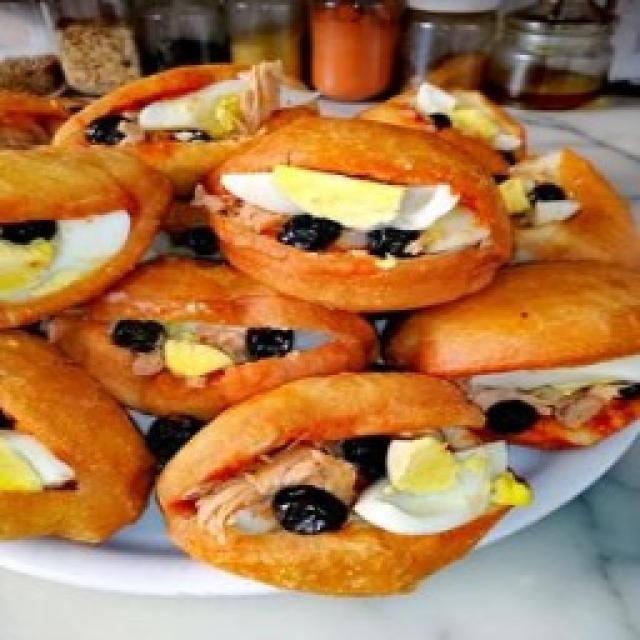Frecasse: (0, 58, 640, 600)
